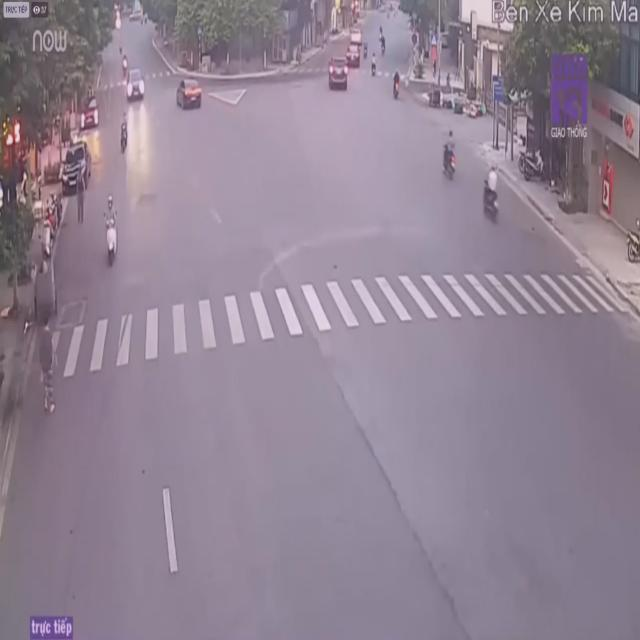car: (62, 140, 91, 194), (180, 76, 206, 110)
motorbike: (103, 190, 121, 266), (481, 165, 500, 220), (442, 128, 460, 185), (119, 114, 128, 155)
